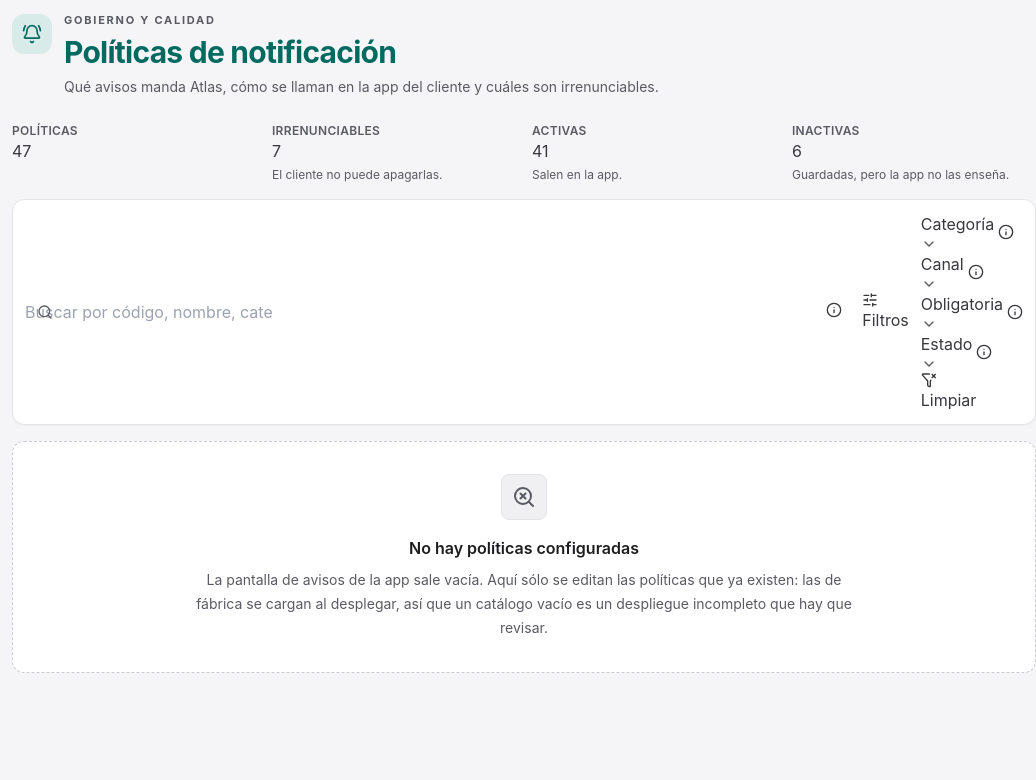
Test: Políticas de notificación › sin coincidencias dice que nada coincide, y sin políticas dice que el despliegue está incompleto
Expected: the heading "No hay políticas configuradas" is shown, top-left (409, 536), bottom-right (639, 560)
Type "zzz" into the field labelled "Buscar por código, nombre, categoría o explicación…" at (149, 312), box top-left (25, 300), bottom-right (273, 324)
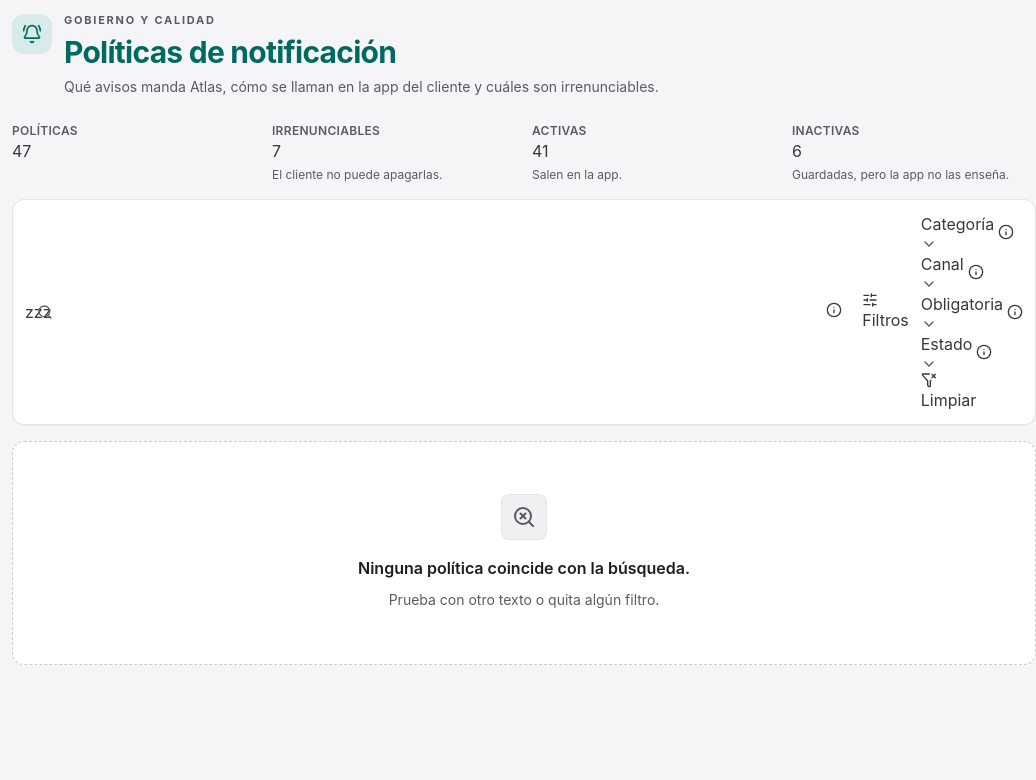
Result: the heading "Ninguna política coincide con la búsqueda." is shown at top-left (358, 556), bottom-right (690, 580)
